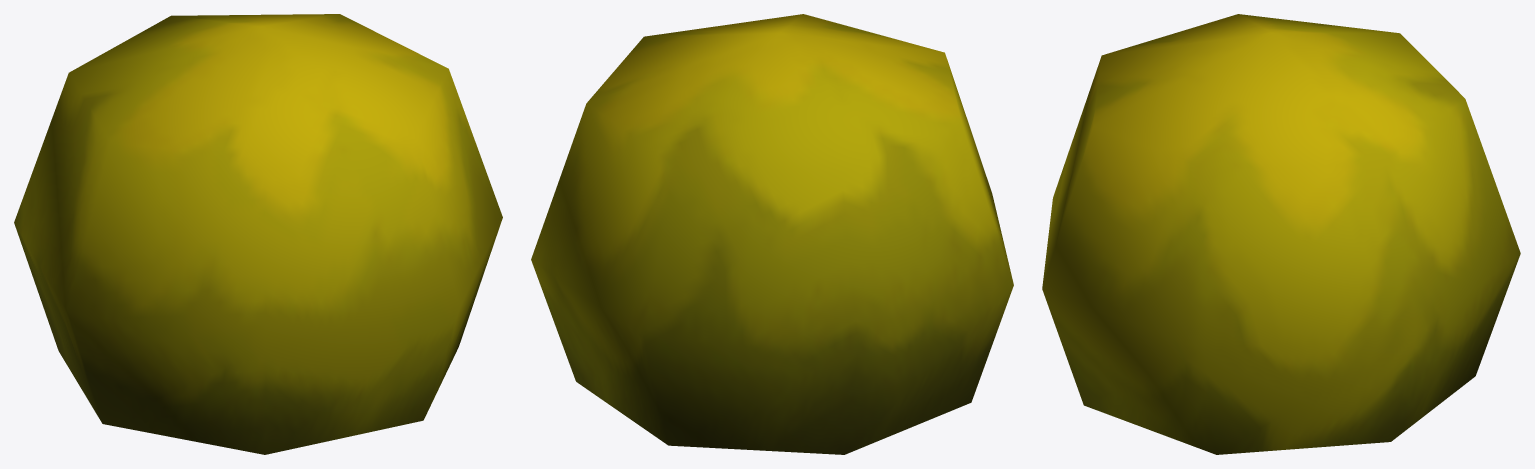
Rendered from pk_model_dshucong1.FBX.
3 views of the same model, side by side, from view 1: azimuth 30°, elevation 25°; view 2: azimuth 150°, elevation 25°; view 3: azimuth 270°, elevation 25° (orthographic).
Parts seen in each view (by area): view 1: pk_model_dshucong1; view 2: pk_model_dshucong1; view 3: pk_model_dshucong1.
Boxes of the visible parts, x1,y1,x2,y2 form: pk_model_dshucong1: (14, 14, 502, 454); pk_model_dshucong1: (531, 14, 1013, 454); pk_model_dshucong1: (1042, 14, 1520, 454).
Bounding box in the file's own units: 169 × 130 × 166.
